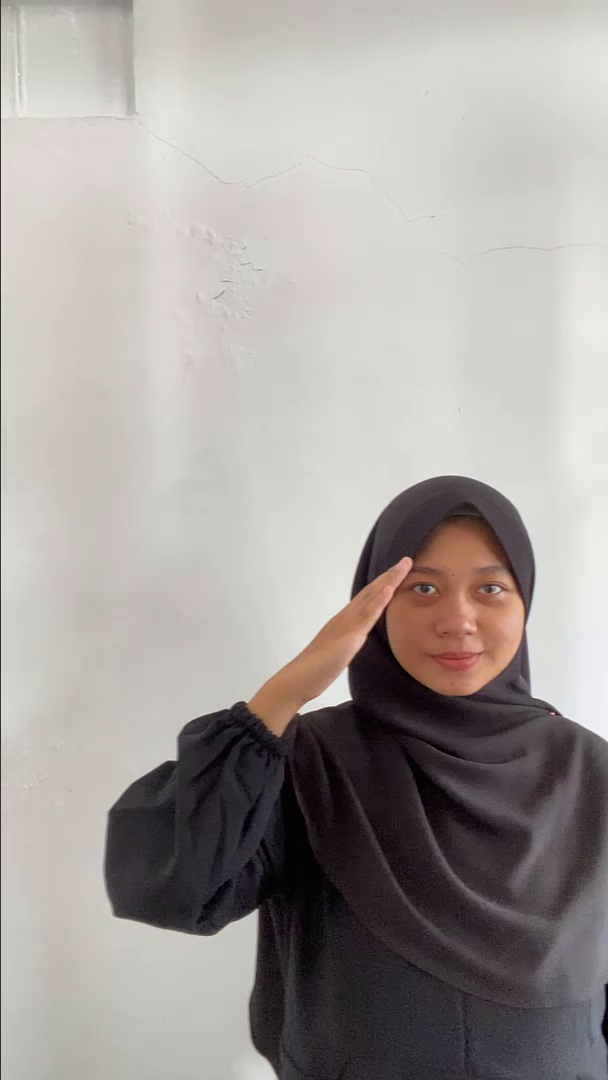SENIN: (230, 550, 422, 753)
